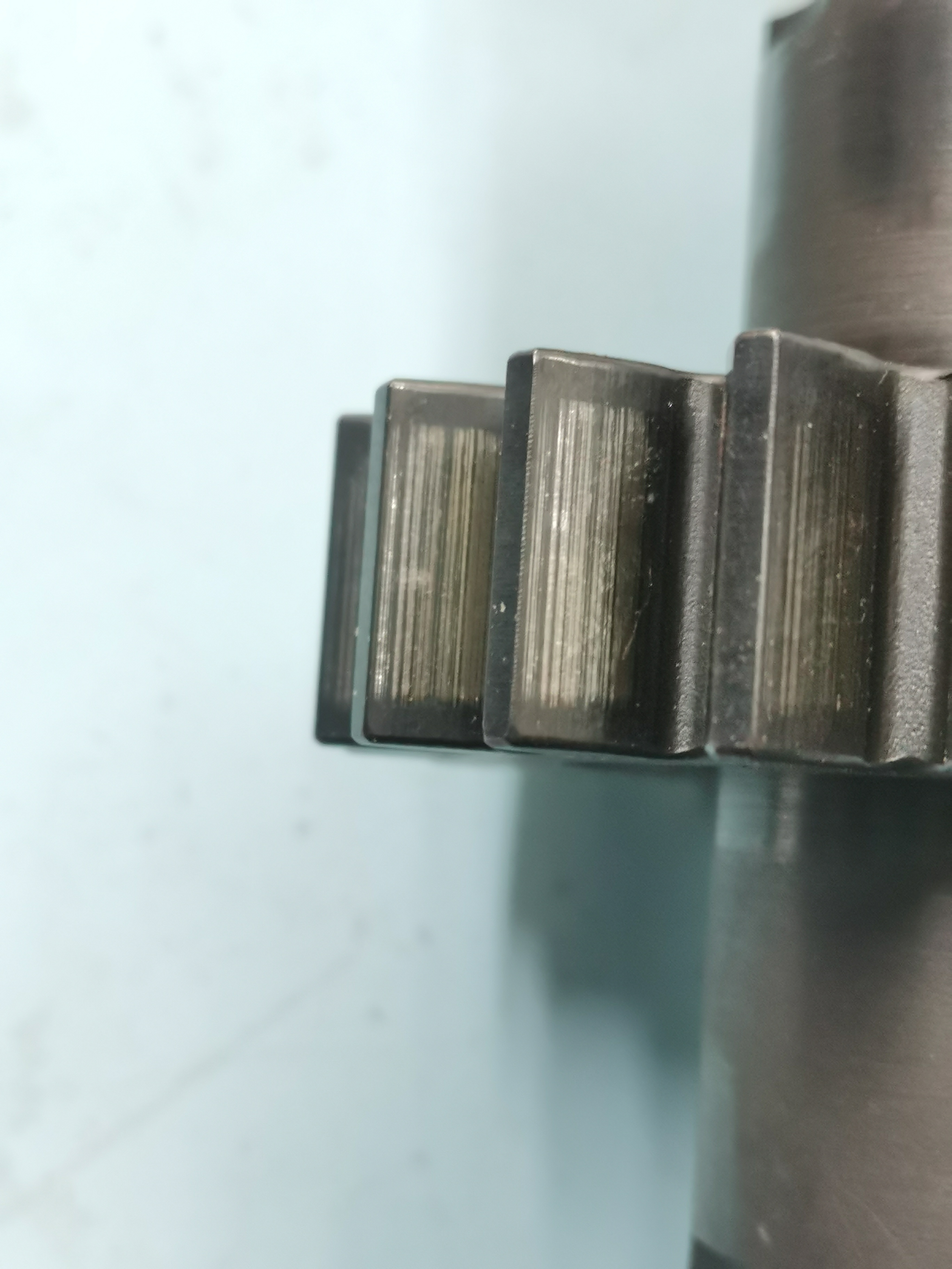Abrasion: (511, 335, 693, 771), (737, 317, 899, 766), (372, 364, 502, 768)
